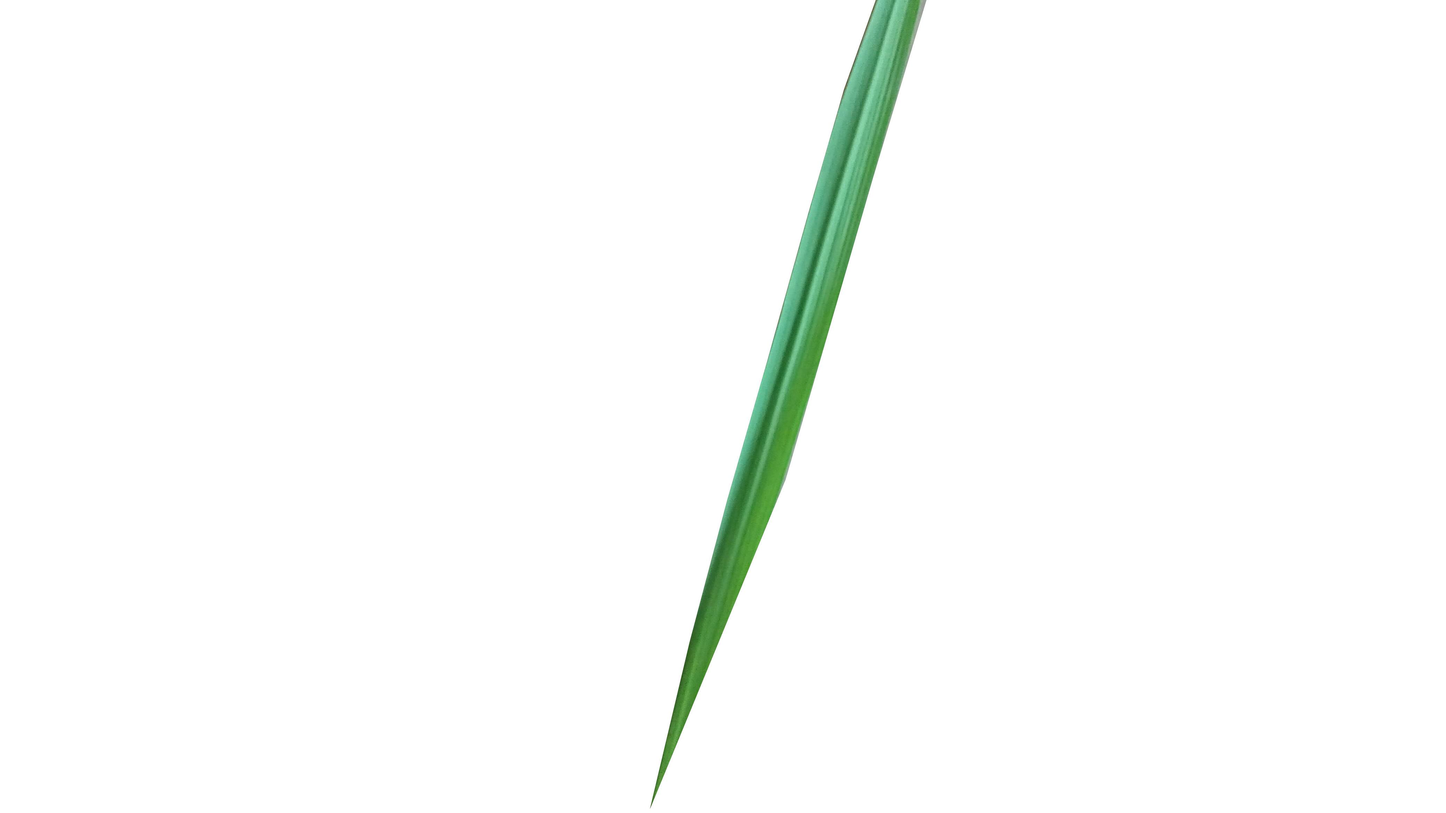Healthy: (645, 0, 929, 813)
